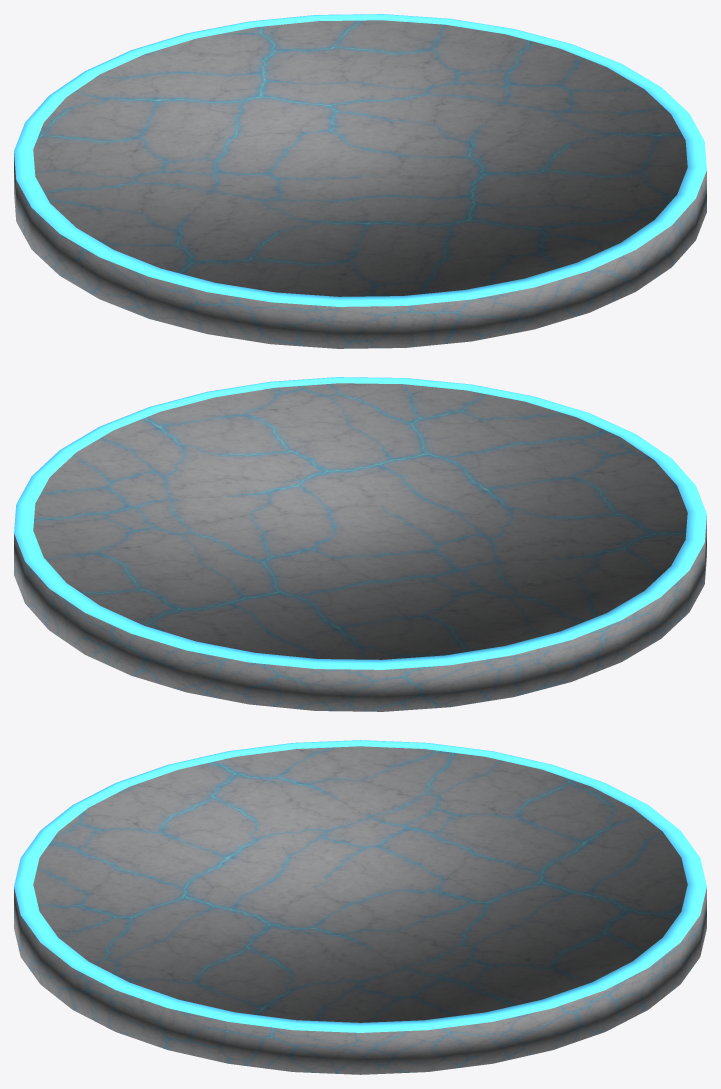
The model's file is platerform.glb.
The picture shows the model from 3 angles, top to bottom: view 1: azimuth 30°, elevation 25°; view 2: azimuth 150°, elevation 25°; view 3: azimuth 270°, elevation 25°; orthographic projection.
Parts seen in each view (by area): view 1: plateform; view 2: plateform; view 3: plateform.
Boxes of the visible parts, <box> form: plateform: <box>14,14,706,348</box>; plateform: <box>14,377,706,711</box>; plateform: <box>14,740,706,1074</box>.
Size of the model in its own units: 30 by 2.09 by 30.
2 materials, 1 textured.
